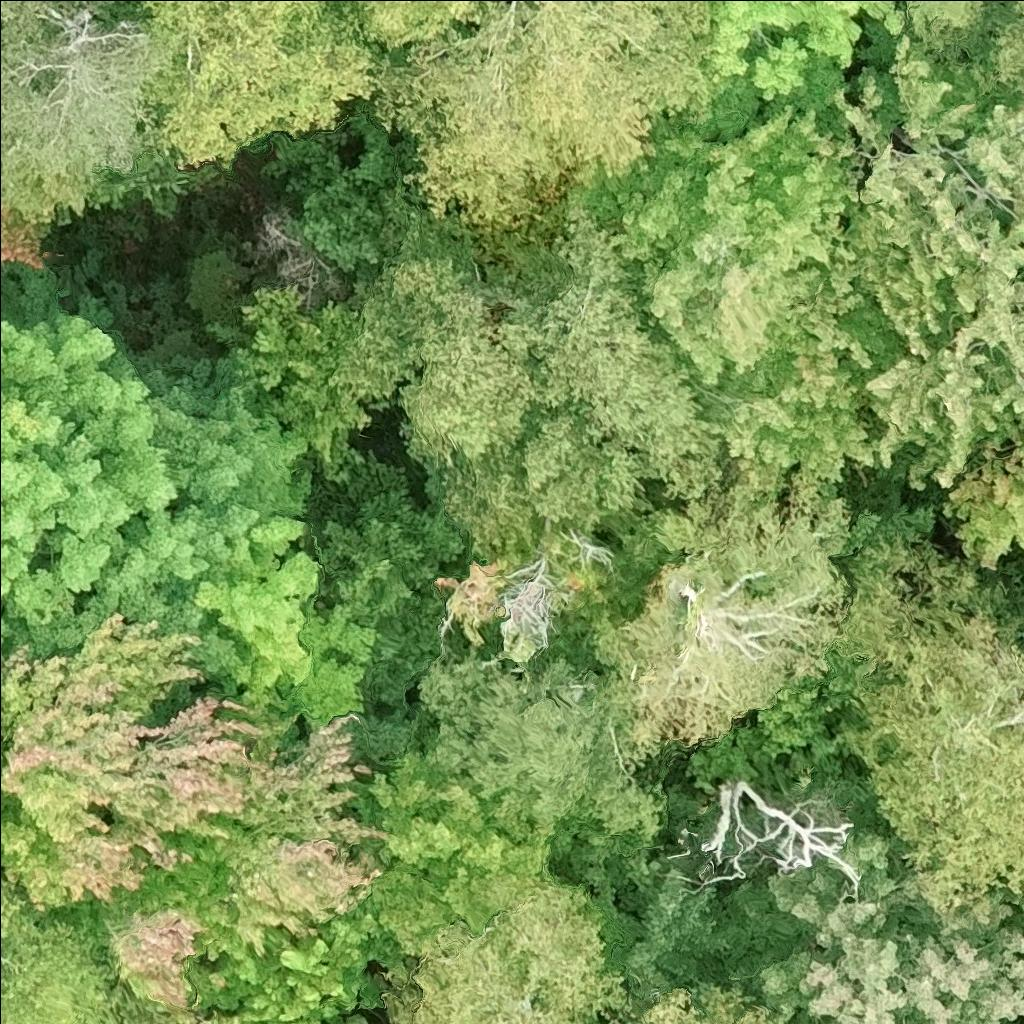crown: (0, 264, 377, 763), (567, 104, 909, 508), (420, 198, 727, 562), (58, 712, 410, 1023), (803, 32, 1023, 493), (372, 0, 715, 295), (569, 484, 853, 771), (0, 613, 269, 913), (841, 580, 1023, 923), (709, 829, 1023, 1023), (331, 206, 544, 475), (414, 643, 669, 849), (349, 749, 560, 963), (303, 447, 467, 710), (134, 0, 381, 171), (385, 874, 640, 1023), (0, 0, 169, 224), (202, 282, 374, 485), (702, 0, 909, 136), (829, 539, 976, 682), (254, 126, 385, 276), (0, 866, 125, 1023), (904, 0, 1023, 94), (940, 440, 1023, 573), (341, 0, 492, 53), (627, 980, 782, 1023), (0, 211, 53, 274)
